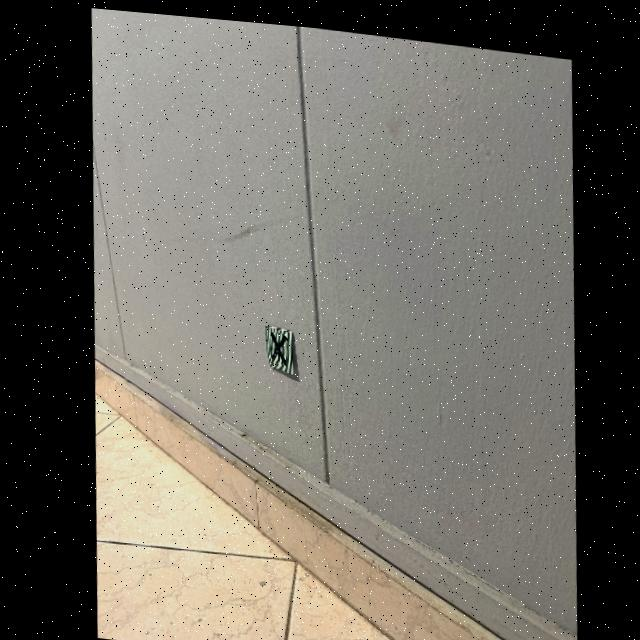X: (267, 328, 283, 359)
